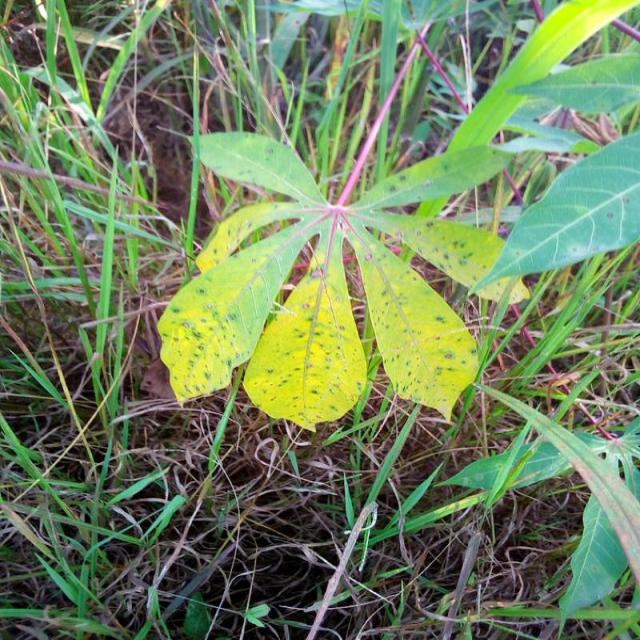cassava leaf: (156, 0, 638, 431), (156, 202, 322, 406), (466, 128, 638, 304), (344, 214, 479, 424), (242, 226, 367, 432)
